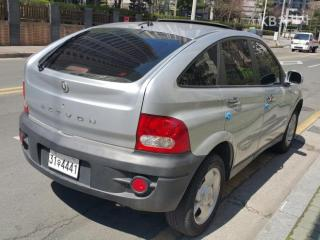1: (53, 156, 57, 167), (74, 164, 78, 175)
3: (49, 154, 54, 166)
4: (60, 159, 66, 170), (69, 161, 74, 173), (65, 160, 69, 172)
우: (57, 159, 61, 169)
